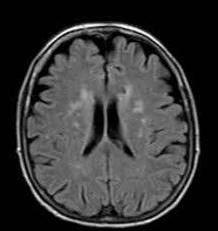Normal_Brain: (4, 1, 218, 231)
